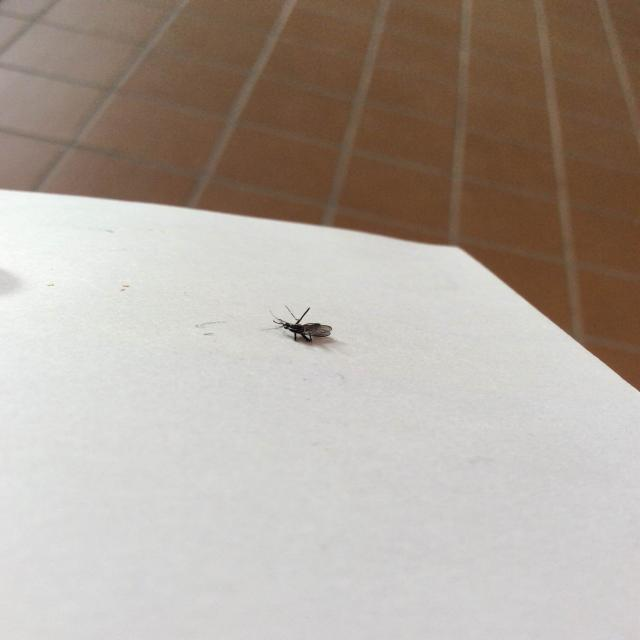albopictus: (264, 302, 334, 344)
